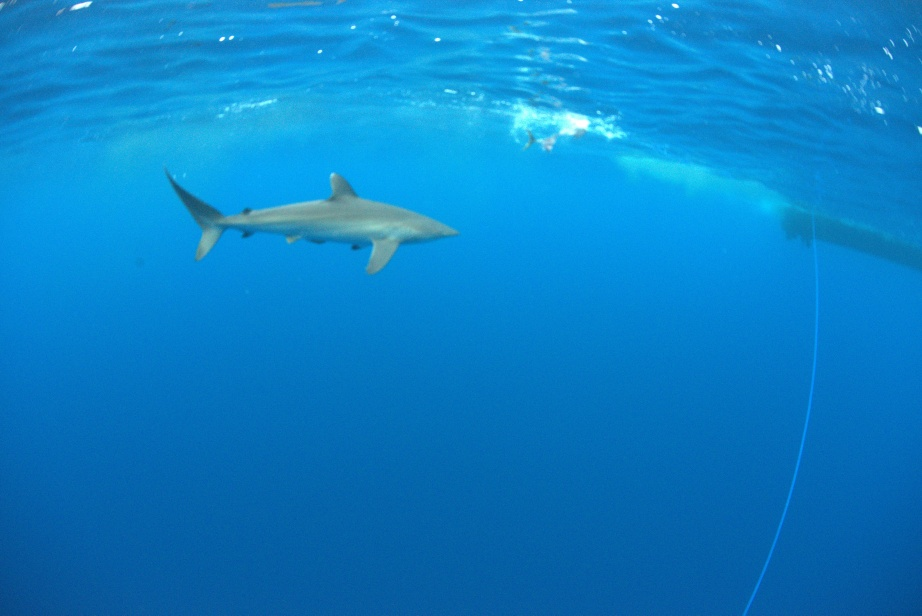Sedoso: (132, 131, 494, 318)
